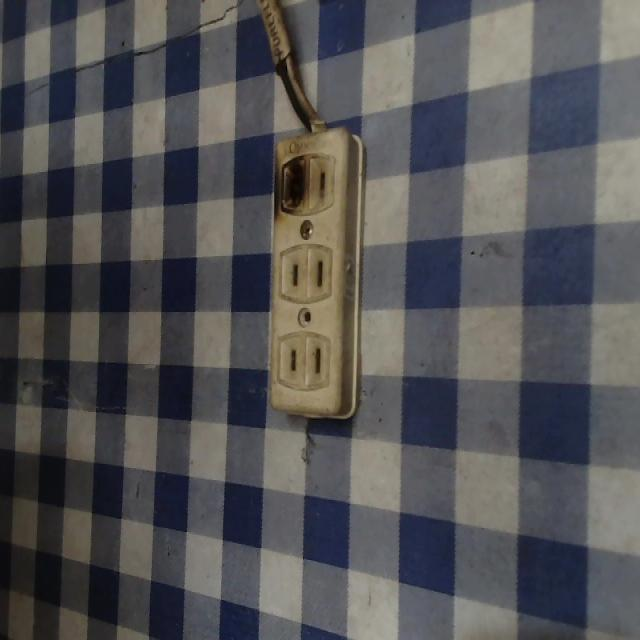-: (271, 155, 309, 217)
